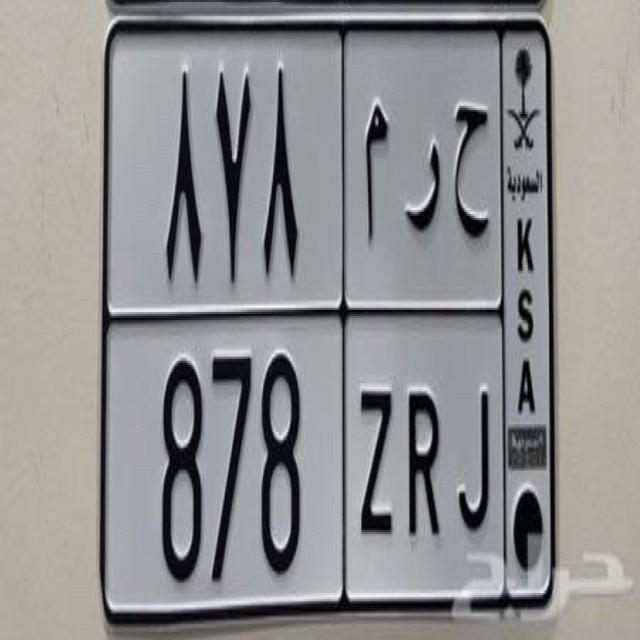license_plate: (100, 306, 509, 614)
